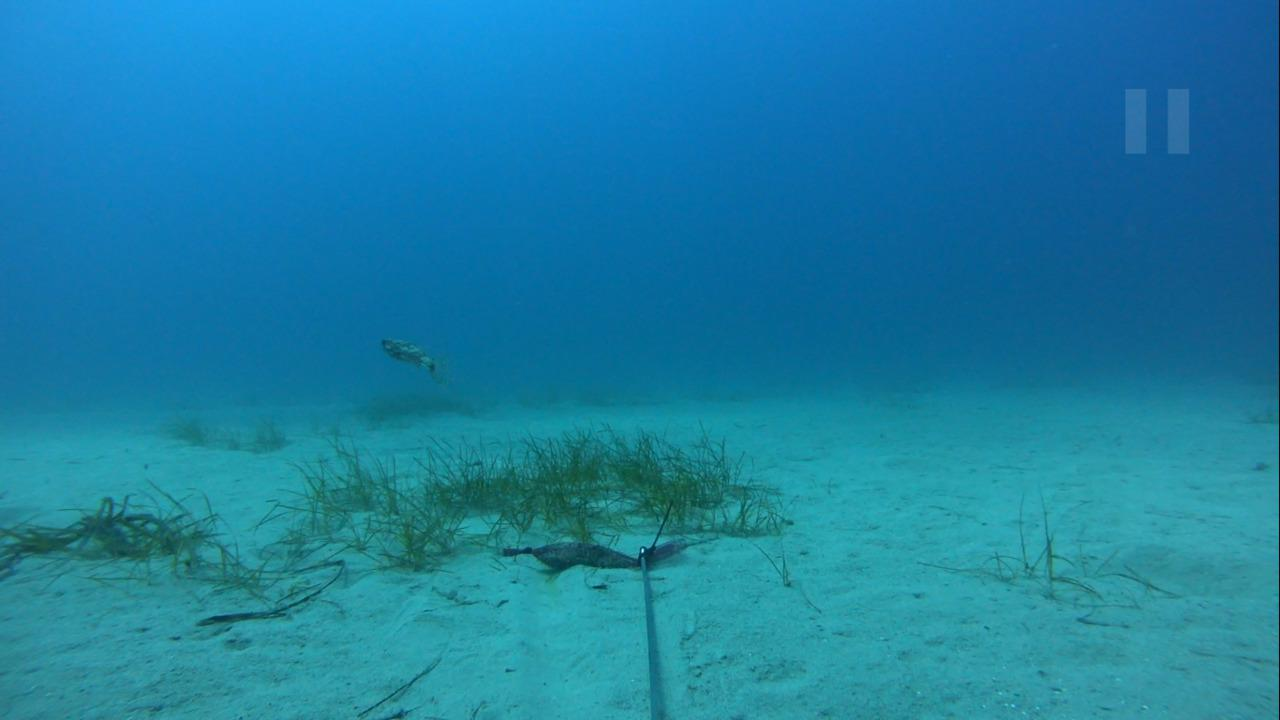dactylopterus: (362, 328, 447, 380)
